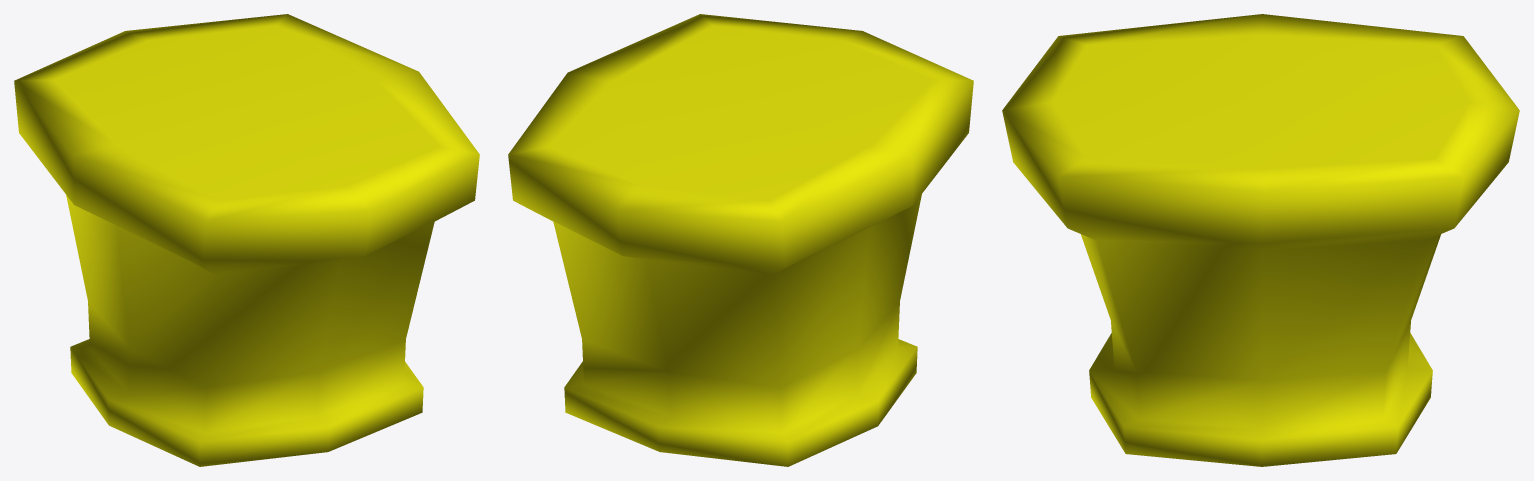
The model's file is S_Pillar_Up_01.fbx.
3 views of the same model, side by side, from view 1: azimuth 30°, elevation 25°; view 2: azimuth 150°, elevation 25°; view 3: azimuth 270°, elevation 25° (orthographic). The views are drawn at different scales.
Visible parts, largest first — view 1: S_Pillar_Up_01; view 2: S_Pillar_Up_01; view 3: S_Pillar_Up_01.
Part boxes in pixels (box(x1,y1,x2,y2)): S_Pillar_Up_01: box(14, 14, 479, 466); S_Pillar_Up_01: box(508, 14, 973, 466); S_Pillar_Up_01: box(1002, 14, 1519, 466).
Size of the model in its own units: 47.73 by 36.96 by 58.71.
